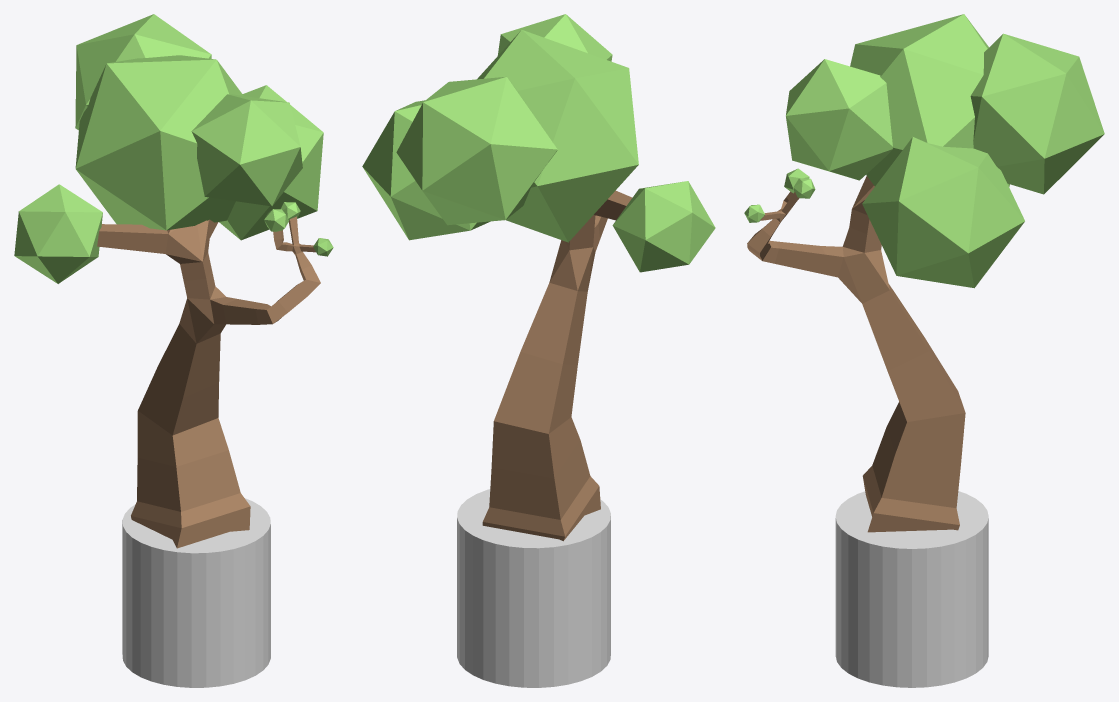
Rendered from tree_munro1.glb.
3 renders of one model, left to right at view 1: azimuth 30°, elevation 25°; view 2: azimuth 150°, elevation 25°; view 3: azimuth 270°, elevation 25°, orthographic. The views are drawn at different scales.
Parts seen in each view (by area): view 1: Cube, Cylinder_col, Icosphere.006, Icosphere.007, Icosphere.003, Icosphere.004, Icosphere.005; view 2: Cylinder_col, Cube, Icosphere.006, Icosphere.004, Icosphere.003, Icosphere.005, Icosphere.007; view 3: Cylinder_col, Cube, Icosphere.005, Icosphere.004, Icosphere.006, Icosphere.007.
Part boxes in pixels (x1=…): Cube: x1=97, y1=216, x2=320, y2=548; Cylinder_col: x1=122, y1=498, x2=270, y2=687; Icosphere.006: x1=75, y1=55, x2=243, y2=230; Icosphere.007: x1=191, y1=94, x2=302, y2=206; Icosphere.003: x1=14, y1=184, x2=102, y2=283; Icosphere.004: x1=75, y1=14, x2=211, y2=130; Icosphere.005: x1=219, y1=85, x2=323, y2=240; Cylinder_col: x1=457, y1=489, x2=610, y2=687; Cube: x1=482, y1=190, x2=632, y2=541; Icosphere.006: x1=477, y1=30, x2=638, y2=242; Icosphere.004: x1=396, y1=76, x2=557, y2=225; Icosphere.003: x1=612, y1=181, x2=715, y2=272; Icosphere.005: x1=362, y1=100, x2=490, y2=240; Icosphere.007: x1=497, y1=14, x2=612, y2=61; Cylinder_col: x1=835, y1=491, x2=988, y2=687; Cube: x1=747, y1=176, x2=965, y2=532; Icosphere.005: x1=862, y1=137, x2=1024, y2=288; Icosphere.004: x1=970, y1=33, x2=1104, y2=194; Icosphere.006: x1=850, y1=14, x2=1009, y2=186; Icosphere.007: x1=786, y1=59, x2=892, y2=180.
Size of the model in its own units: 3.06 by 5.71 by 3.04.
